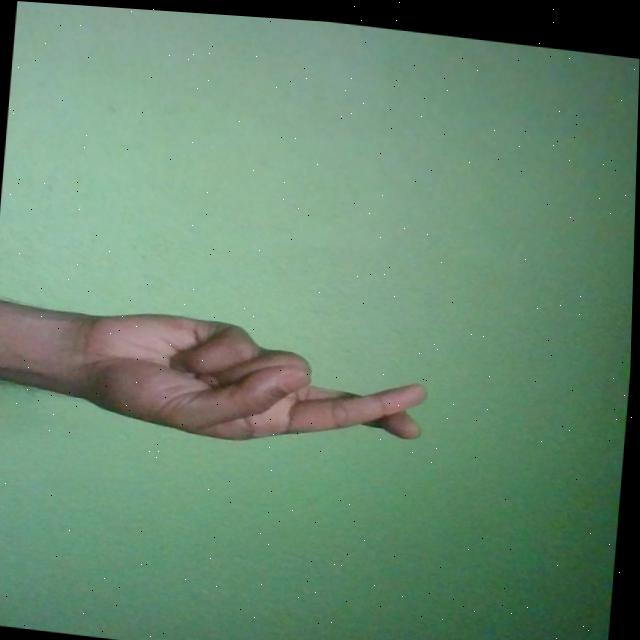Good Luck: (69, 303, 431, 457)
